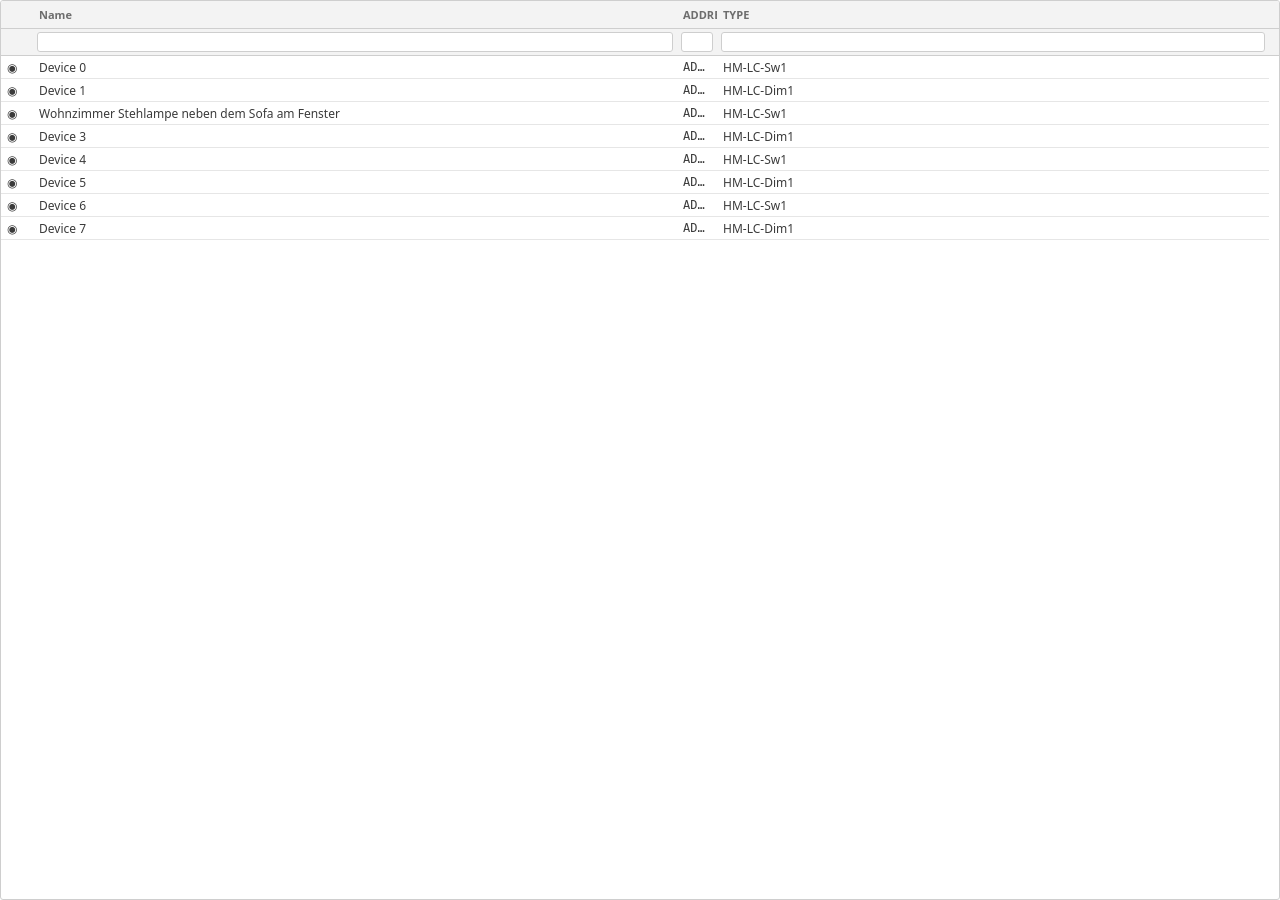
column widths and the full text of a cut-off cell (#157) › shows the label of a cut-off column header, without the sort mark
The width and height of the screenshot is (1280, 900).
Hover over the column heading "ADDRESS" at (697, 14), box [683, 7, 711, 22]
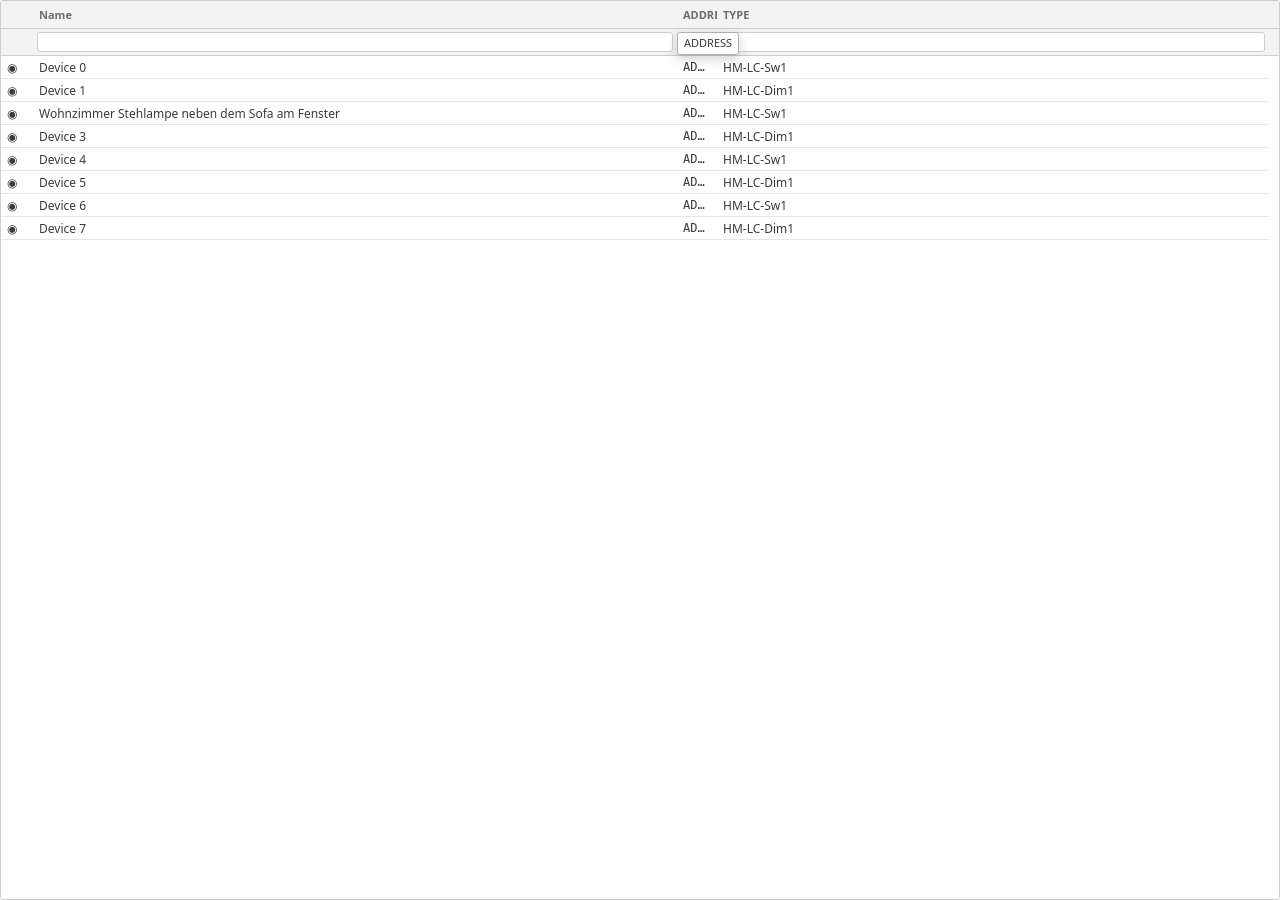
Result: the tooltip reads "ADDRESS" at [684, 35, 732, 50]
